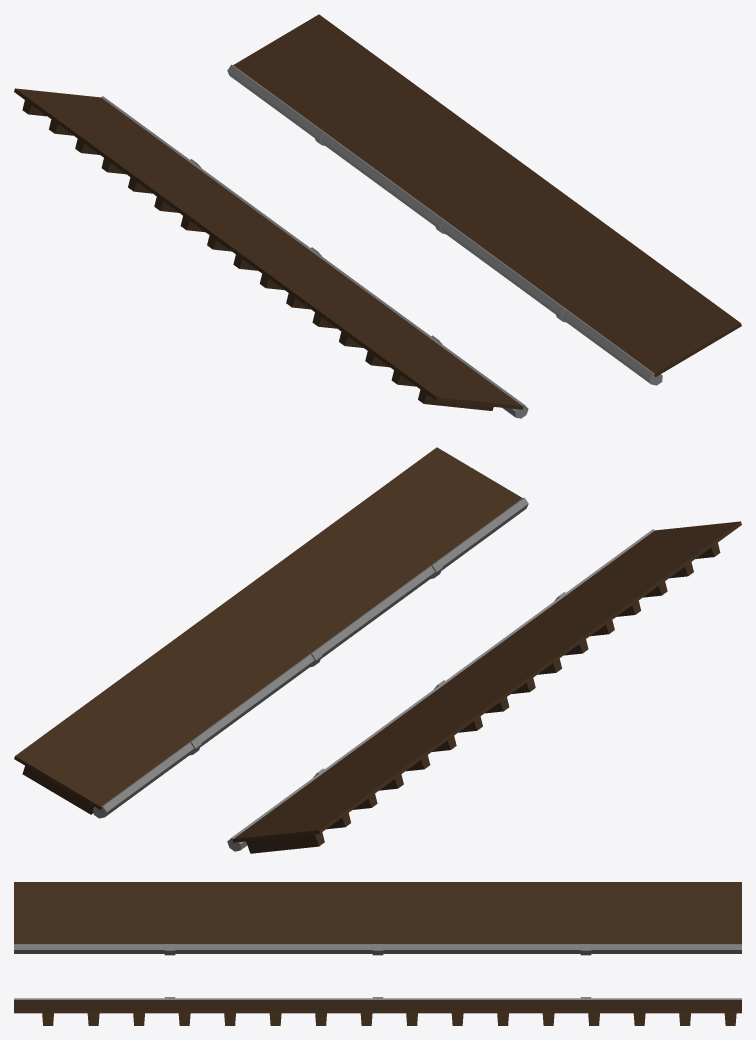
The model's file is set_3_wall_U.glb.
3 renders of one model, top to bottom at view 1: azimuth 30°, elevation 25°; view 2: azimuth 150°, elevation 25°; view 3: azimuth 270°, elevation 25°, orthographic. The views are drawn at different scales.
Visible parts, largest first — view 1: TemplateWall.004, TemplateWall.002, Cylinder.001, Cylinder; view 2: TemplateWall.004, TemplateWall.002, Cylinder.001, Cylinder; view 3: TemplateWall.002, TemplateWall.004, Cylinder, Cylinder.001.
Part boxes in pixels (left/top/right/bottom): TemplateWall.004: left=233, top=14, right=741, bottom=377; TemplateWall.002: left=14, top=88, right=523, bottom=410; Cylinder.001: left=227, top=64, right=662, bottom=385; Cylinder: left=101, top=96, right=528, bottom=418; TemplateWall.004: left=14, top=447, right=522, bottom=814; TemplateWall.002: left=232, top=521, right=741, bottom=853; Cylinder.001: left=93, top=497, right=528, bottom=818; Cylinder: left=227, top=529, right=654, bottom=851; TemplateWall.002: left=14, top=882, right=741, bottom=943; TemplateWall.004: left=14, top=1000, right=741, bottom=1025; Cylinder: left=14, top=944, right=741, bottom=955; Cylinder.001: left=14, top=997, right=741, bottom=999.
Size of the model in its own units: 5.12 by 0.7015 by 12.21.
